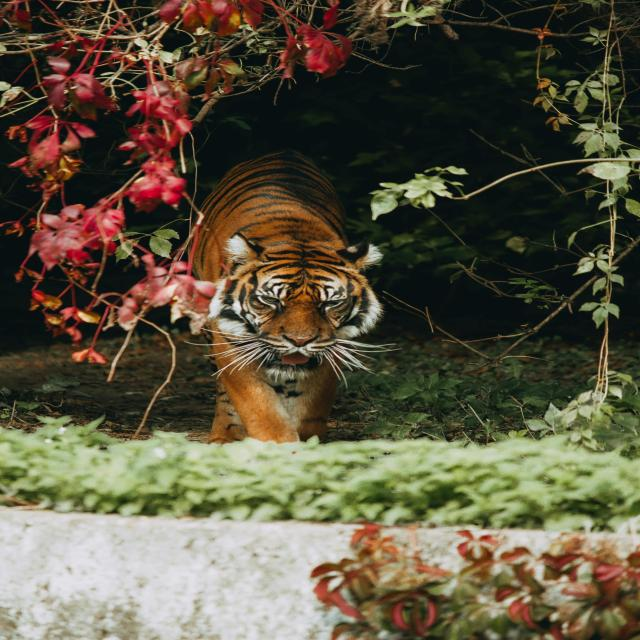Tiger: (188, 146, 384, 442)
